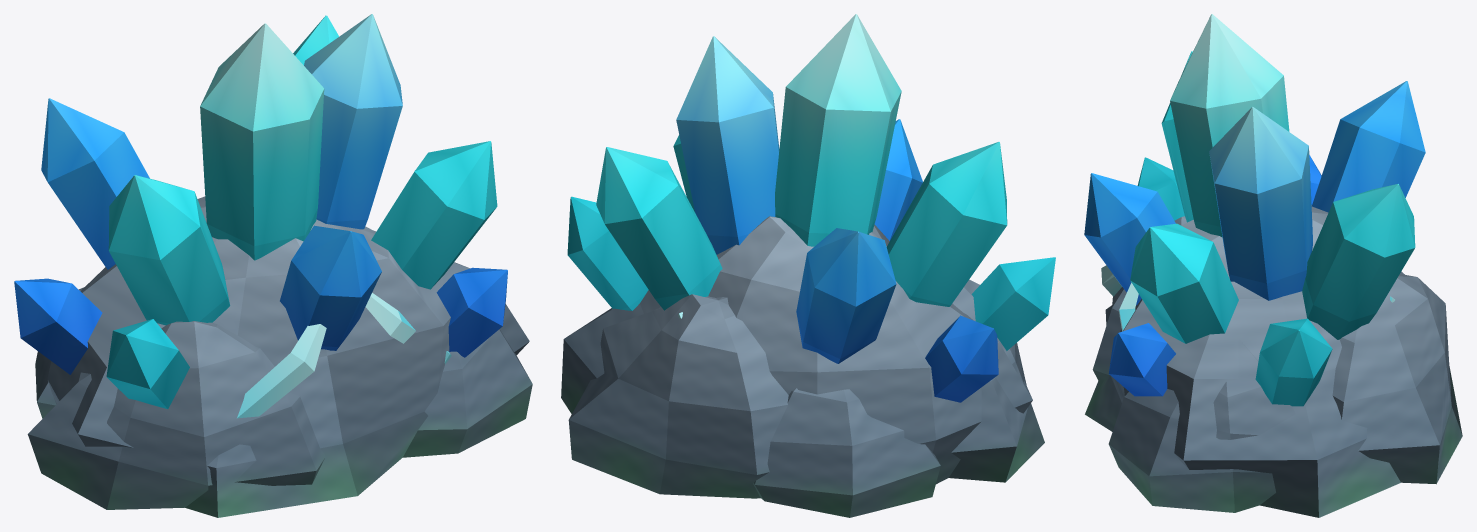
The model's file is Mineral_Ore.fbx.
The picture shows the model from 3 angles, left to right: view 1: azimuth 30°, elevation 25°; view 2: azimuth 150°, elevation 25°; view 3: azimuth 270°, elevation 25°; orthographic projection. The views are drawn at different scales.
Parts seen in each view (by area): view 1: Mineral_Rock_Base, Mineral_Crystals_Turquoise, Mineral_Crystals_AquaBlue, Mineral_Luminous_Veins; view 2: Mineral_Rock_Base, Mineral_Crystals_Turquoise, Mineral_Crystals_AquaBlue; view 3: Mineral_Rock_Base, Mineral_Crystals_Turquoise, Mineral_Crystals_AquaBlue, Mineral_Luminous_Veins.
Part boxes in pixels (box(x1,y1,x2,y2)): Mineral_Rock_Base: box(27, 196, 532, 517); Mineral_Crystals_Turquoise: box(106, 15, 497, 409); Mineral_Crystals_AquaBlue: box(14, 14, 507, 374); Mineral_Luminous_Veins: box(237, 293, 451, 418); Mineral_Rock_Base: box(561, 216, 1044, 517); Mineral_Crystals_Turquoise: box(567, 14, 1055, 350); Mineral_Crystals_AquaBlue: box(676, 36, 998, 402); Mineral_Rock_Base: box(1085, 205, 1462, 517); Mineral_Crystals_Turquoise: box(1130, 14, 1415, 406); Mineral_Crystals_AquaBlue: box(1084, 81, 1425, 396); Mineral_Luminous_Veins: box(1101, 265, 1394, 331).
Bounding box in the file's own units: 1.36 × 1.21 × 1.06.
4 materials, 4 textured.
